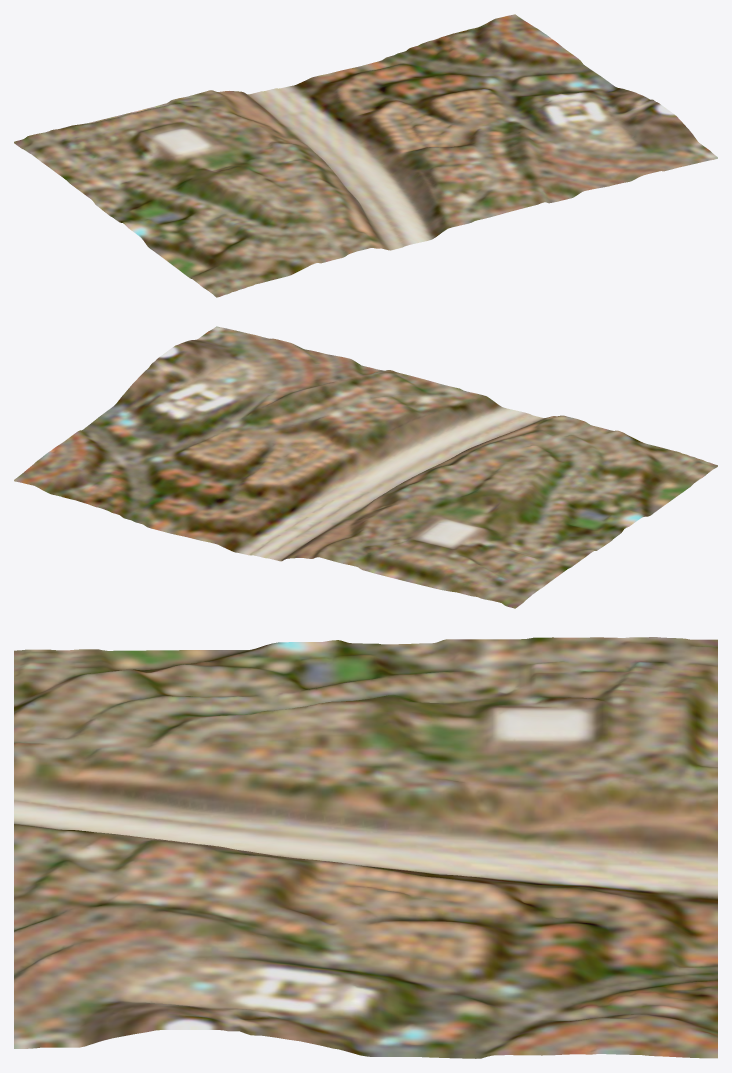
Rendered from terrain_r5_c7.glb.
3 views of the same model, one above another, from view 1: azimuth 30°, elevation 25°; view 2: azimuth 150°, elevation 25°; view 3: azimuth 270°, elevation 25° (orthographic). The views are drawn at different scales.
Parts seen in each view (by area): view 1: terrain_r5_c7_lod0; view 2: terrain_r5_c7_lod0; view 3: terrain_r5_c7_lod0.
Boxes of the visible parts, left/top/right/bottom form: terrain_r5_c7_lod0: left=14, top=14, right=717, bottom=297; terrain_r5_c7_lod0: left=14, top=326, right=717, bottom=608; terrain_r5_c7_lod0: left=14, top=637, right=717, bottom=1058.
Size of the model in its own units: 1125 by 75.26 by 787.
1 material, 1 textured.
